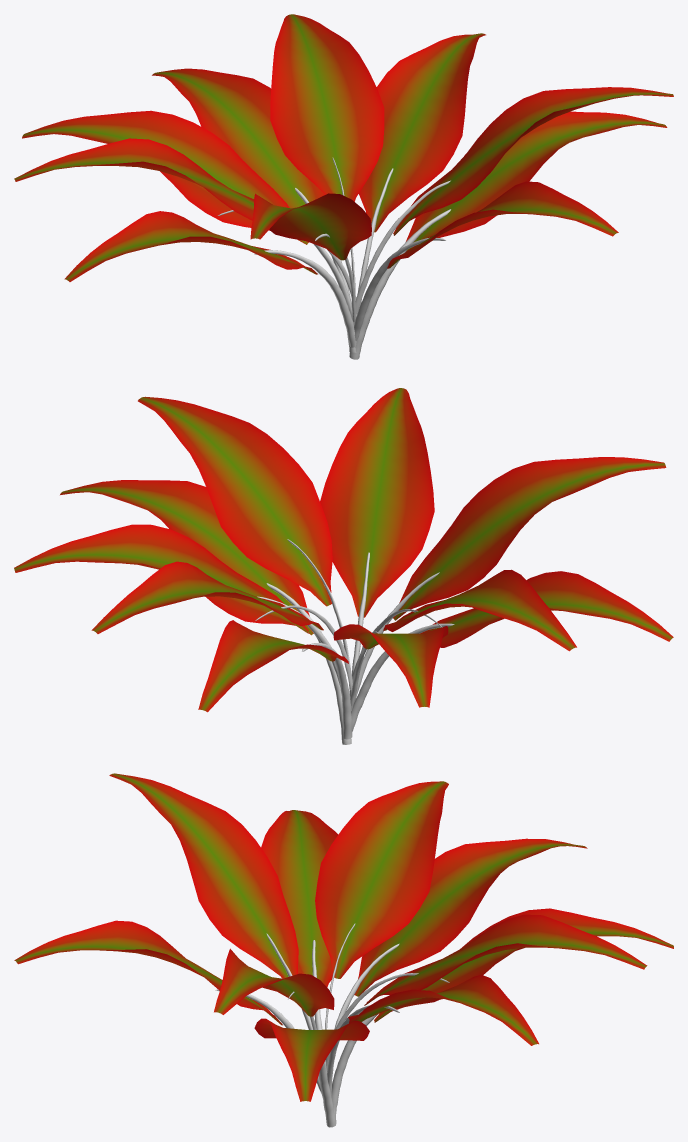
File: SM_Plant.fbx
The picture shows the model from 3 angles, top to bottom: view 1: azimuth 30°, elevation 25°; view 2: azimuth 150°, elevation 25°; view 3: azimuth 270°, elevation 25°; orthographic projection.
Visible parts, largest first — view 1: leaf_geo, stem_geo; view 2: leaf_geo, stem_geo; view 3: leaf_geo, stem_geo.
Part boxes in pixels (x1,y1,x2,y2): leaf_geo: (14,14,673,281); stem_geo: (218,157,450,359); leaf_geo: (14,388,673,712); stem_geo: (255,539,454,744); leaf_geo: (14,773,673,1101); stem_geo: (215,923,449,1127).
Size of the model in its own units: 106 by 43.15 by 101.
